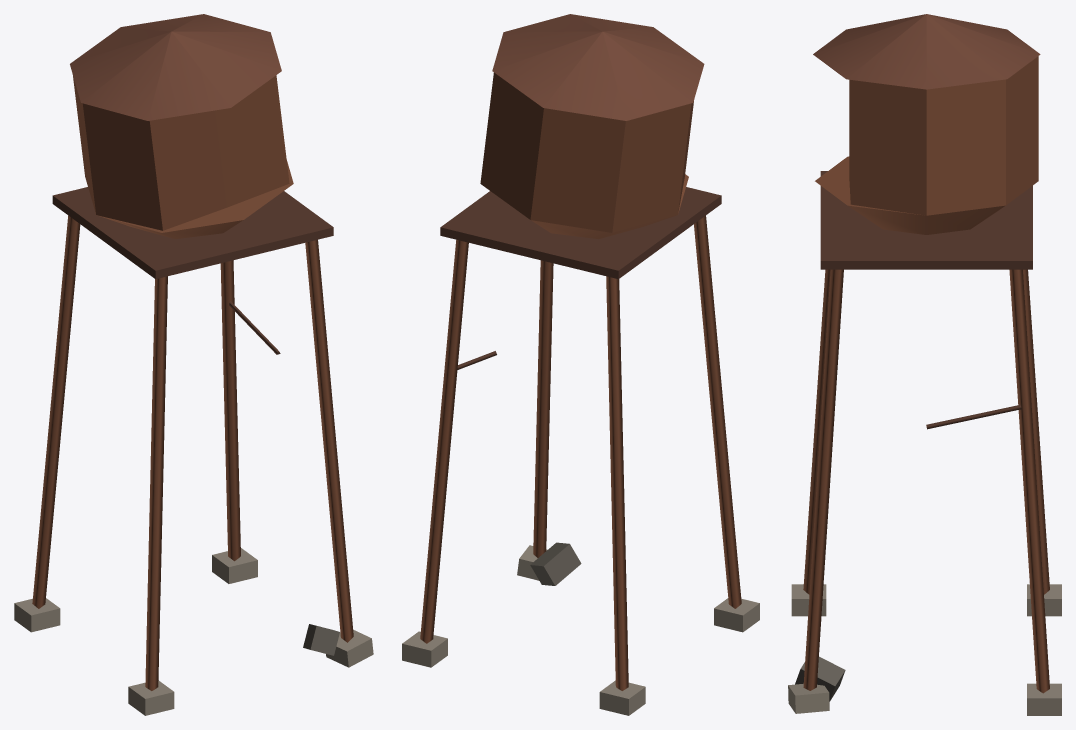
3 views of the same model, side by side, from view 1: azimuth 30°, elevation 25°; view 2: azimuth 150°, elevation 25°; view 3: azimuth 270°, elevation 25° (orthographic). The views are drawn at different scales.
Visible parts, largest first — view 1: site_water_tower_ruin; view 2: site_water_tower_ruin; view 3: site_water_tower_ruin.
Part boxes in pixels (<box>): site_water_tower_ruin: <box>14,14,373,715</box>; site_water_tower_ruin: <box>402,14,759,715</box>; site_water_tower_ruin: <box>788,14,1061,715</box>.
Size of the model in its own units: 7.11 by 18.11 by 7.09.
